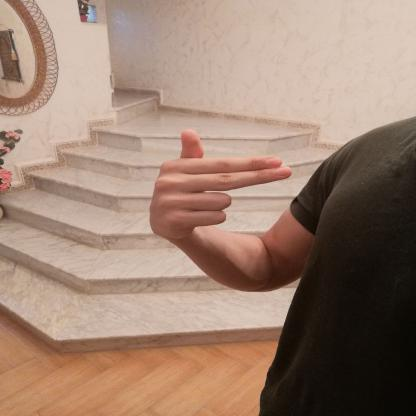GHAYN: (135, 122, 303, 246)
